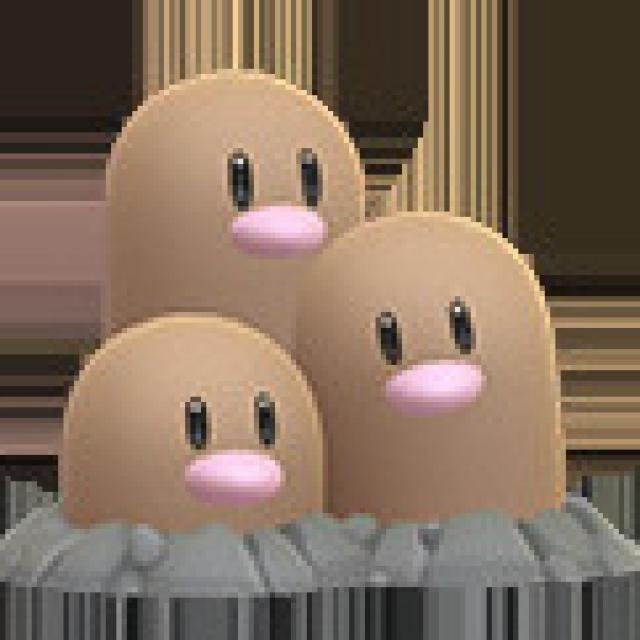Dugtrio: (62, 63, 564, 531)
